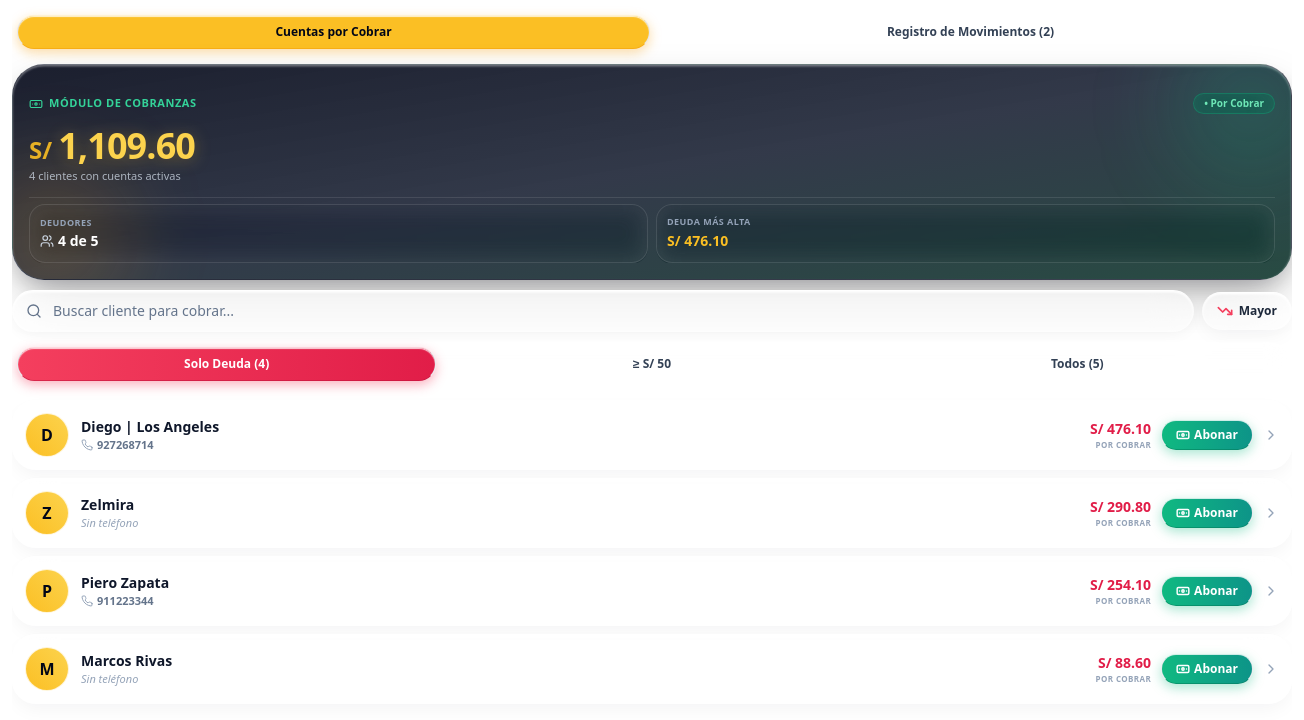
it: HistoryPage / Cobros Component (Strict TDD) › Store partitioning (T3) › excludes customers and movements from other stores
Expected: the text "Diego | Los Angeles" is shown, [81,417,219,437]
Click the button "Registro de Movimientos (2)" at (970, 32), box [654,15,1287,49]
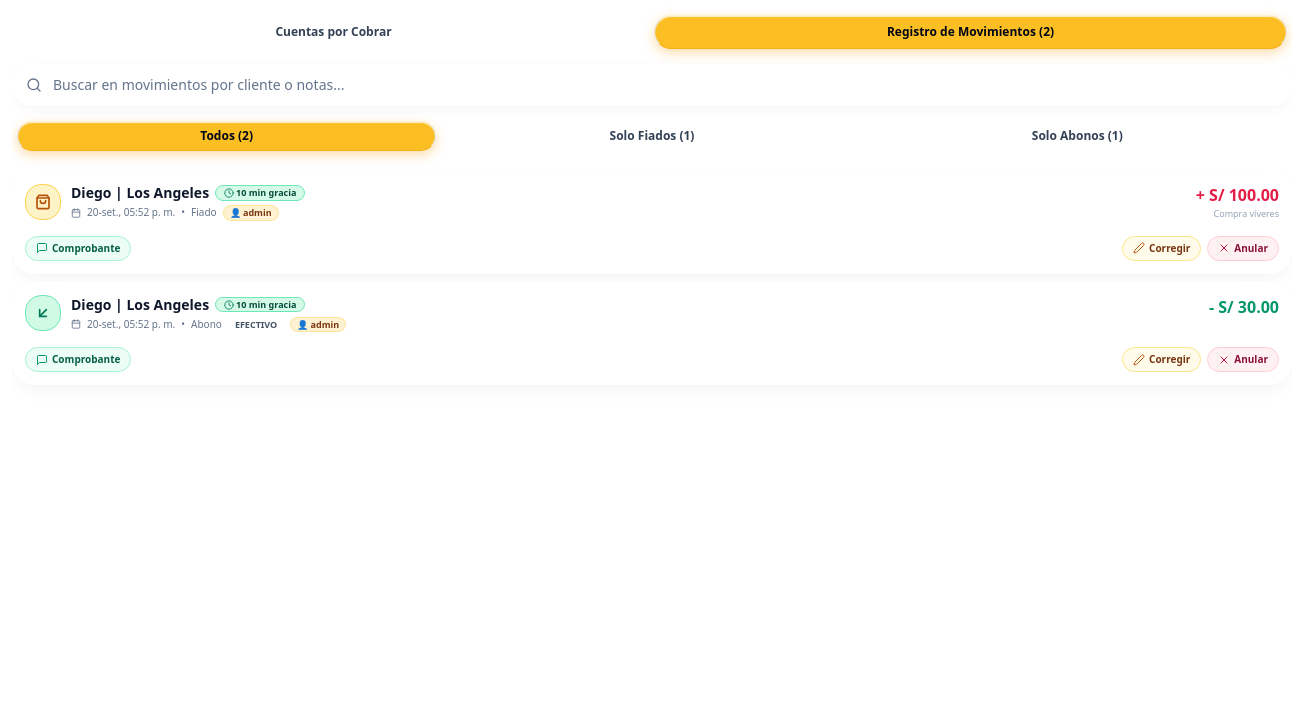
Result: the text "Compra víveres" is shown at [1214,207,1279,220]
